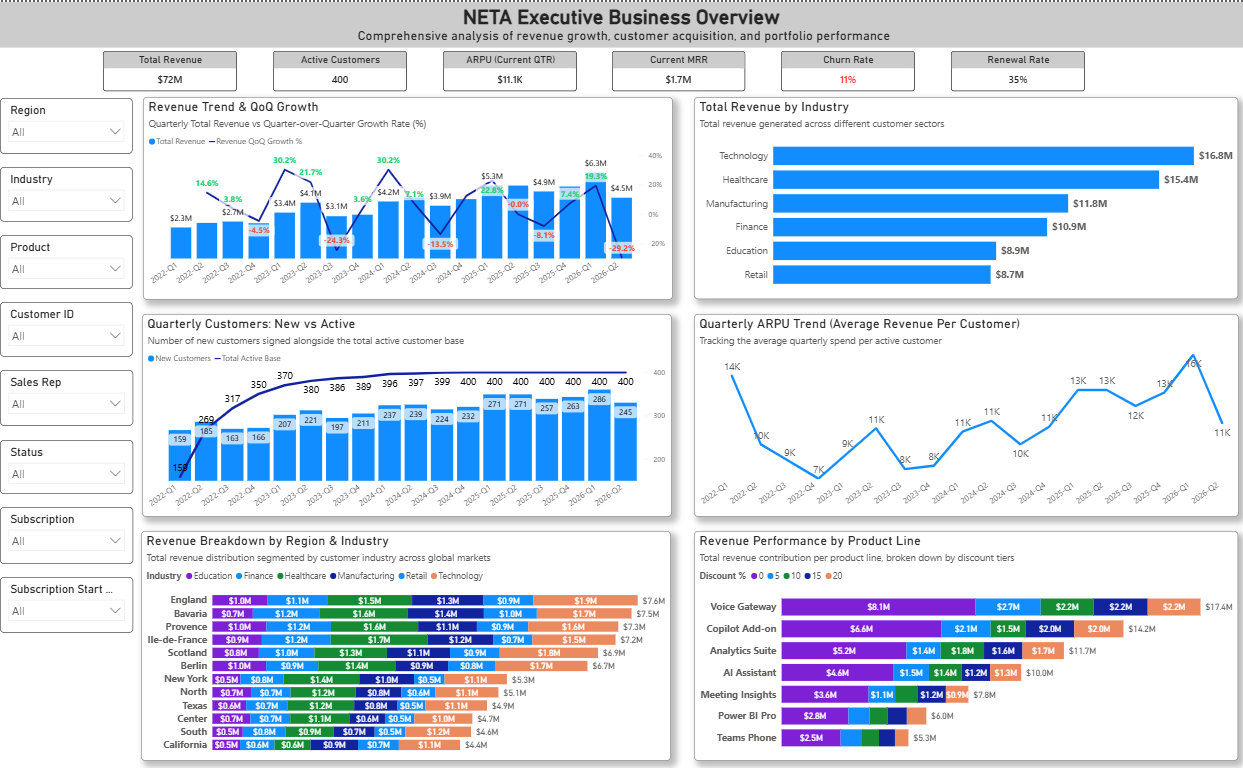

Layout of this report page (visuals, bound fields, positions):
{"tool":"powerbi","page":{"name":"Executive Business Overview","canvas":[2080,1280],"ordinal":0},"visuals":[{"type":"slicer","fields":{"Values":["Home_Test_Data.Region","Home_Test_Data.Country"]},"box":[0,160,221.4,92.9],"z":0},{"type":"slicer","fields":{"Values":["Home_Test_Data.Industry"]},"box":[0,274.9,221.4,91.4],"z":1000},{"type":"slicer","fields":{"Values":["Home_Test_Data.Subscription"]},"box":[0,841.3,221.7,95],"z":2000},{"type":"slicer","fields":{"Values":["Home_Test_Data.Product"]},"box":[0,388.4,221.4,90],"z":3000},{"type":"slicer","fields":{"Values":["Home_Test_Data.Status"]},"box":[0,729.3,221.7,90],"z":4000},{"type":"slicer","fields":{"Values":["Home_Test_Data.Start Year","Home_Test_Data.Start YearQuarter"]},"box":[0,958.3,221.7,93.3],"z":5000},{"type":"cardVisual","title":"Total Revenue","fields":{"Data":["Home_Test_Data.Total Revenue"]},"box":[171.7,81.7,223.3,66.7],"z":6000},{"type":"cardVisual","title":"ARPU (Current QTR)","fields":{"Data":["Home_Test_Data.Current Quarter ARPU"]},"box":[737.7,81.7,223.3,66.7],"z":7000},{"type":"lineStackedColumnComboChart","title":"Revenue Trend & QoQ Growth","fields":{"Category":["Home_Test_Data.Start YearQuarter"],"Y":["Home_Test_Data.Total Revenue"],"Y2":["Home_Test_Data.Revenue YoY Growth %"]},"box":[237.5,158.6,882.5,337.5],"z":8000},{"type":"barChart","title":"Revenue Breakdown by Region & Industry","fields":{"Category":["Home_Test_Data.Region"],"Y":["Home_Test_Data.Total Revenue"],"Series":["Home_Test_Data.Industry"]},"box":[235.7,881.4,882.9,382.9],"z":9000},{"type":"barChart","title":"Revenue Performance by Product Line","fields":{"Category":["Home_Test_Data.Product"],"Y":["Home_Test_Data.Total Revenue"],"Series":["Home_Test_Data.Discount %"]},"box":[1157.1,881.4,907.1,382.9],"z":10000},{"type":"lineStackedColumnComboChart","title":"Quarterly Customers: New vs Active","fields":{"Category":["Home_Test_Data.Start YearQuarter"],"Y2":["Home_Test_Data.Total Active Base"],"Y":["Home_Test_Data.Total Customers"]},"box":[236.7,520,883.3,338.3],"z":11000},{"type":"textbox","box":[0,0,2080,75.7],"z":12000},{"type":"cardVisual","title":"Churn Rate ","fields":{"Data":["Home_Test_Data.Churn Rate %"]},"box":[1302,81.7,223.3,66.7],"z":13000},{"type":"cardVisual","title":"Renewal Rate ","fields":{"Data":["Home_Test_Data.Renewal Rate %"]},"box":[1585,81.7,223.3,66.7],"z":14000},{"type":"slicer","fields":{"Values":["Home_Test_Data.Customer ID"]},"box":[0,500.4,221.4,91.4],"z":15000},{"type":"cardVisual","title":"Active Customers","fields":{"Data":["Home_Test_Data.Active Customers"]},"box":[454.7,81.7,223.3,66.7],"z":16000},{"type":"barChart","title":"Total Revenue by Industry","fields":{"Y":["Home_Test_Data.Total Revenue"],"Category":["Home_Test_Data.Industry"]},"box":[1157.1,158.7,907.1,337.1],"z":17000},{"type":"lineChart","title":"Quarterly ARPU Trend (Average Revenue Per Customer)","fields":{"Category":["Home_Test_Data.Start YearQuarter"],"Y":["Home_Test_Data.Average Revenue Per Customer"]},"box":[1156.7,520,908.3,338.3],"z":18000},{"type":"cardVisual","title":"Current MRR","fields":{"Data":["Home_Test_Data.Current MRR"]},"box":[1020.7,81.7,221.7,66.7],"z":19000},{"type":"slicer","fields":{"Values":["Home_Test_Data.Sales Rep"]},"box":[0,613.9,221.7,93.3],"z":20000}]}

Visuals, with their boxes in screenshot pixels (x1, y1, x2, y2), scaled from the page's 2080x1280 canvas onto the 1243x768 screenshot:
slicer - Home_Test_Data.Region x Home_Test_Data.Country: 0, 96, 132, 152
slicer - Home_Test_Data.Industry: 0, 165, 132, 220
slicer - Home_Test_Data.Subscription: 0, 505, 132, 562
slicer - Home_Test_Data.Product: 0, 233, 132, 287
slicer - Home_Test_Data.Status: 0, 438, 132, 492
slicer - Home_Test_Data.Start Year x Home_Test_Data.Start YearQuarter: 0, 575, 132, 631
"Total Revenue" cardVisual: 103, 49, 236, 89
"ARPU (Current QTR)" cardVisual: 441, 49, 574, 89
"Revenue Trend & QoQ Growth" lineStackedColumnComboChart: 142, 95, 669, 298
"Revenue Breakdown by Region & Industry" barChart: 141, 529, 668, 759
"Revenue Performance by Product Line" barChart: 691, 529, 1234, 759
"Quarterly Customers: New vs Active" lineStackedColumnComboChart: 141, 312, 669, 515
textbox: 0, 0, 1242, 45
"Churn Rate " cardVisual: 778, 49, 912, 89
"Renewal Rate " cardVisual: 947, 49, 1081, 89
slicer - Home_Test_Data.Customer ID: 0, 300, 132, 355
"Active Customers" cardVisual: 272, 49, 405, 89
"Total Revenue by Industry" barChart: 691, 95, 1234, 297
"Quarterly ARPU Trend (Average Revenue Per Customer)" lineChart: 691, 312, 1234, 515
"Current MRR" cardVisual: 610, 49, 742, 89
slicer - Home_Test_Data.Sales Rep: 0, 368, 132, 424
